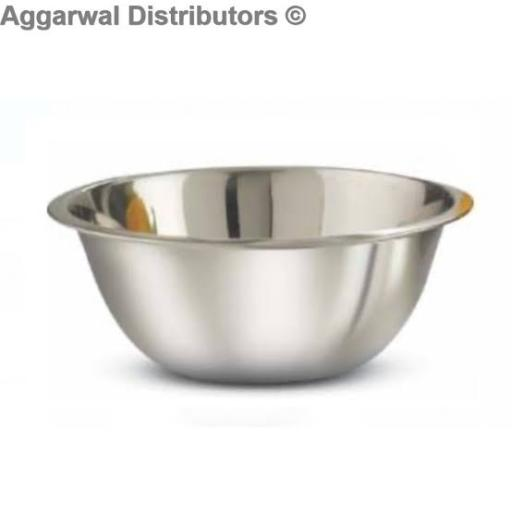Bowl: (48, 165, 474, 386)
